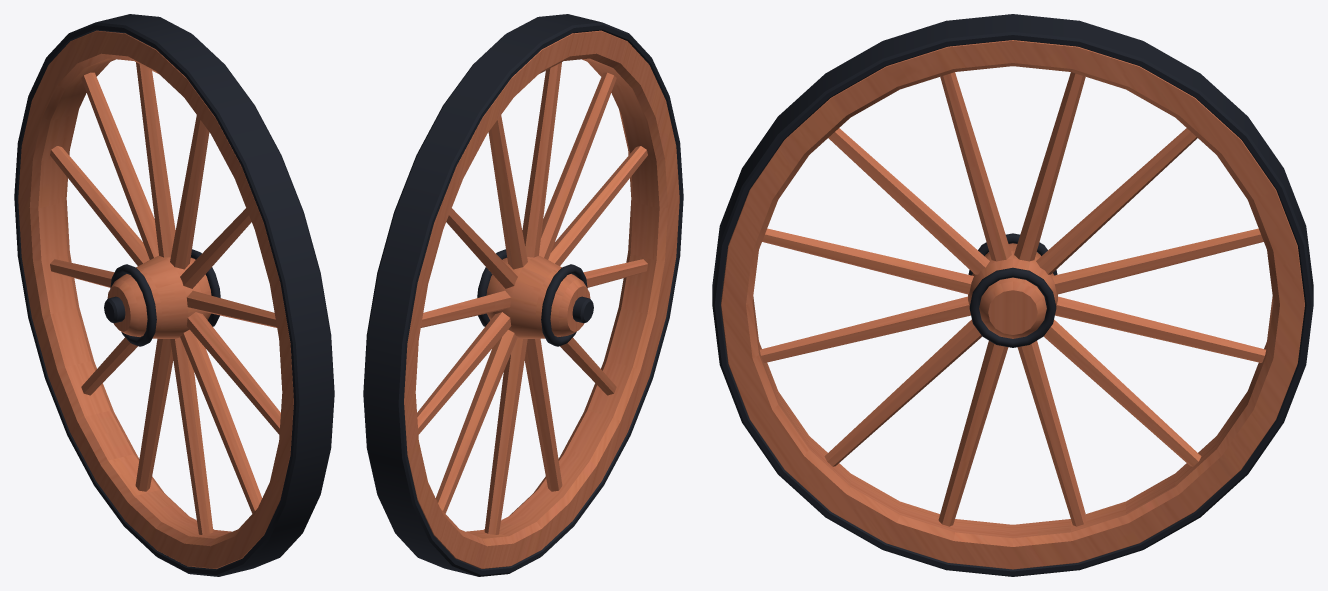
The model's file is rueda_fr.obj.
3 renders of one model, left to right at view 1: azimuth 30°, elevation 25°; view 2: azimuth 150°, elevation 25°; view 3: azimuth 270°, elevation 25°, orthographic. The views are drawn at different scales.
Visible parts, largest first — view 1: covered-wagon_wheel_fr; view 2: covered-wagon_wheel_fr; view 3: covered-wagon_wheel_fr.
Part boxes in pixels (left/top/right/bottom): covered-wagon_wheel_fr: left=14, top=14, right=334, bottom=576; covered-wagon_wheel_fr: left=363, top=14, right=683, bottom=576; covered-wagon_wheel_fr: left=712, top=14, right=1313, bottom=576.
Bounding box in the file's own units: 0.2 × 1 × 1.
2 materials, 1 textured.
